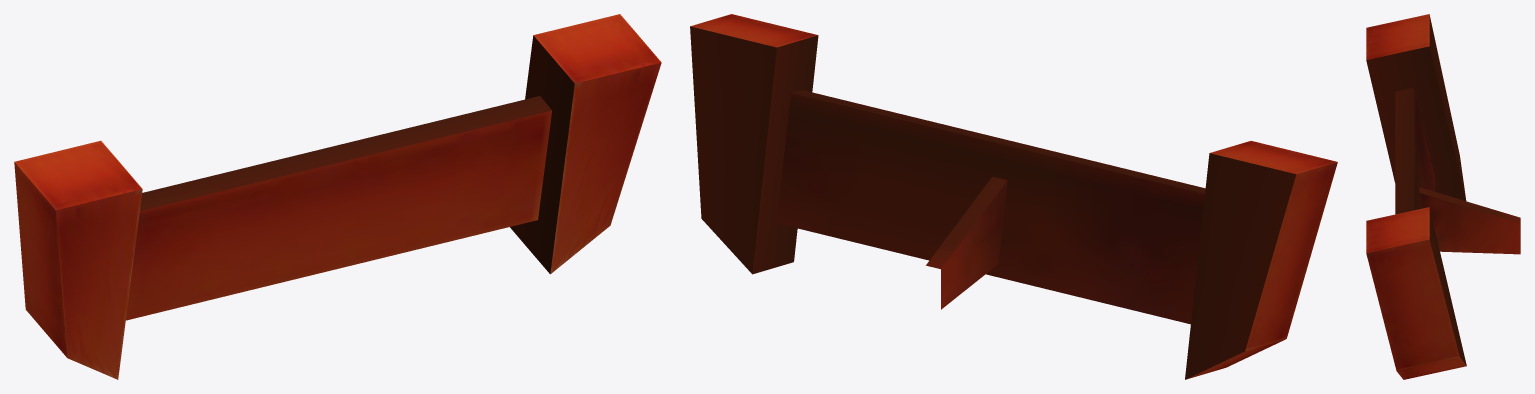
The model's file is Kart 3 Spoiler.glb.
3 renders of one model, left to right at view 1: azimuth 30°, elevation 25°; view 2: azimuth 150°, elevation 25°; view 3: azimuth 270°, elevation 25°, orthographic. The views are drawn at different scales.
Visible parts, largest first — view 1: spoiler; view 2: spoiler; view 3: spoiler.
Boxes of the visible parts, box(x1,y1,x2,y2) form: spoiler: box(14, 14, 661, 379); spoiler: box(690, 14, 1337, 379); spoiler: box(1366, 14, 1520, 379).
Bounding box in the file's own units: 1.91 × 0.6834 × 0.5536.
Materials: 1 (1 with a texture image).
